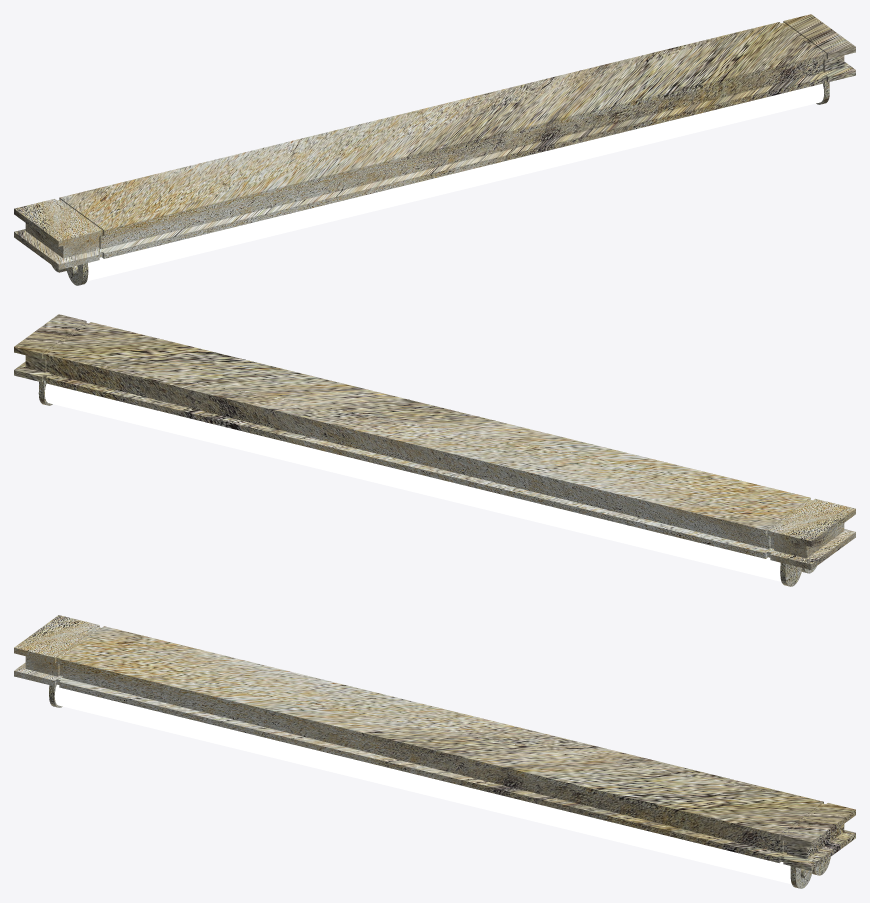
Rendered from old_fluorescent_light.glb.
3 views of the same model, one above another, from view 1: azimuth 30°, elevation 25°; view 2: azimuth 150°, elevation 25°; view 3: azimuth 330°, elevation 25° (orthographic).
Visible parts, largest first — view 1: Cube_0, Circle_1, Circle.001_2; view 2: Cube_0, Circle_1, Circle.001_2; view 3: Cube_0, Circle_1, Circle.001_2.
Part boxes in pixels (x1,y1,x2,y2): Cube_0: (14,14,855,269); Circle_1: (87,83,823,281); Circle.001_2: (51,81,829,285); Cube_0: (14,314,855,569); Circle_1: (45,383,781,581); Circle.001_2: (38,381,816,586); Cube_0: (14,615,855,870); Circle_1: (54,684,791,884); Circle.001_2: (49,685,830,888).
Bounding box in the file's own units: 49.15 × 3.58 × 4.77.
3 materials, 2 textured.
